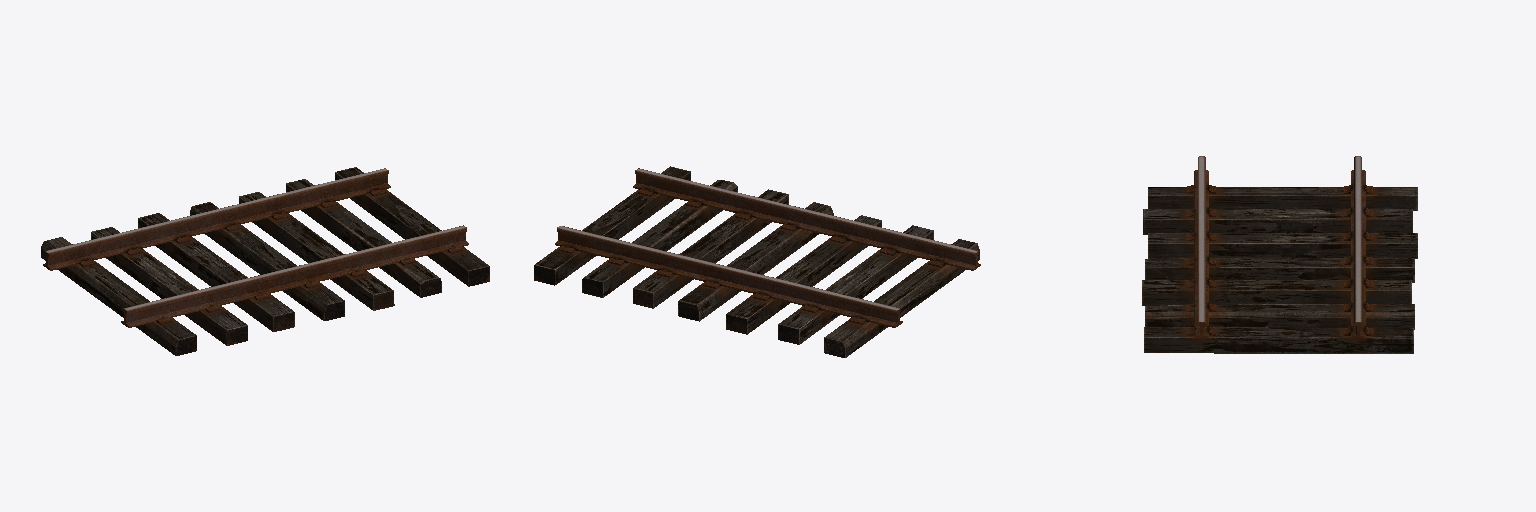
3 renders of one model, left to right at view 1: azimuth 30°, elevation 25°; view 2: azimuth 150°, elevation 25°; view 3: azimuth 270°, elevation 25°, orthographic.
Parts seen in each view (by area): view 1: obj1; view 2: obj1; view 3: obj1.
Boxes of the visible parts, x1=… form: obj1: x1=41, y1=167, x2=489, y2=355; obj1: x1=534, y1=166, x2=980, y2=357; obj1: x1=1142, y1=156, x2=1417, y2=353.
Bounding box in the file's own units: 4 × 0.3716 × 2.82.
1 materials, 1 textured.